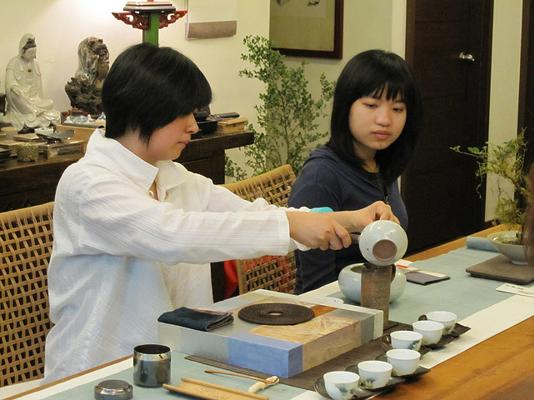person: (43, 41, 402, 388)
